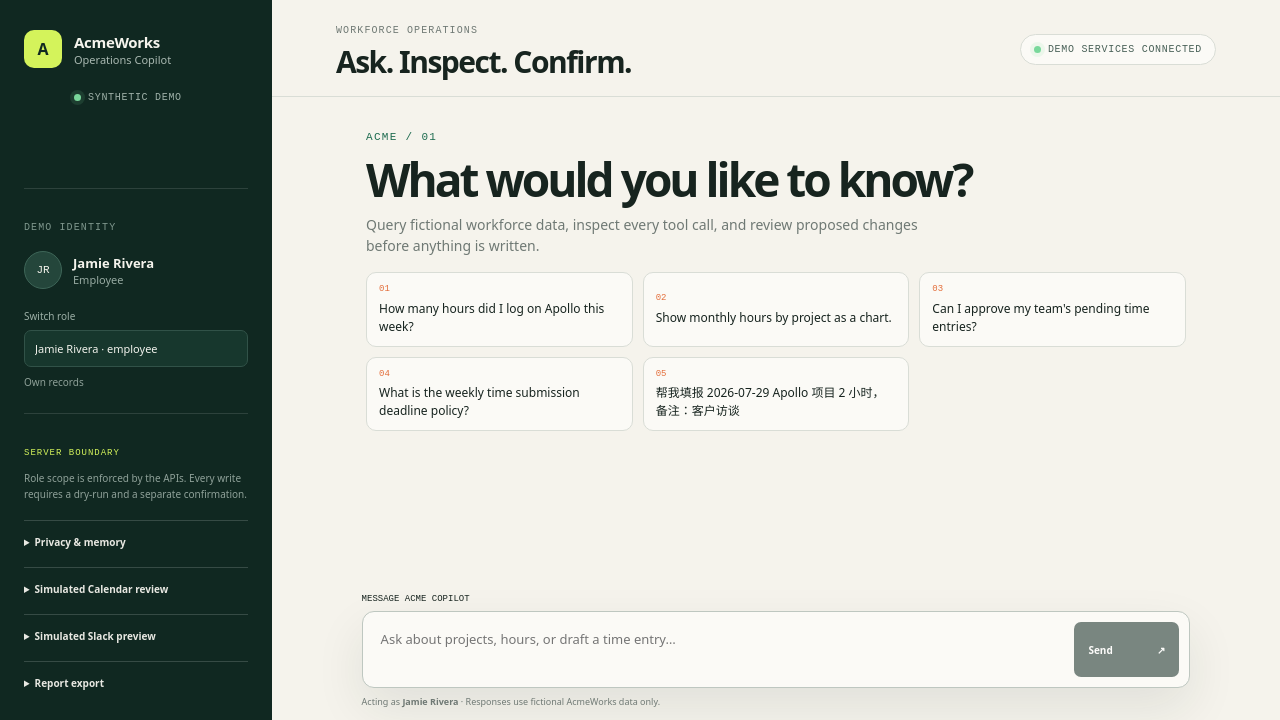
Test: ChatWorkspace › renders time entries as a readable structured table
The image size is (1280, 720).
Type "看下目前所有填的工时" into the text box labelled "Message Acme Copilot" at (718, 650), box [373,622,1062,677]
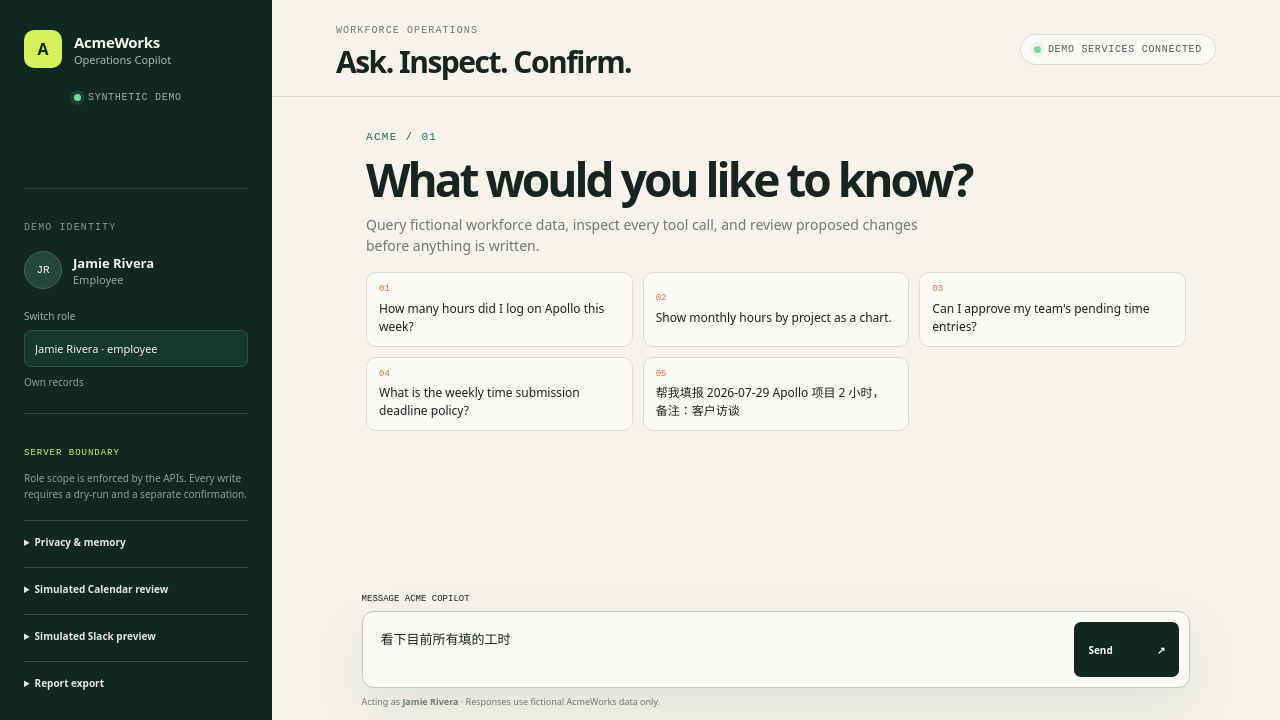
Click the button "Send ↗" at (1127, 650), box [1074,622,1179,677]
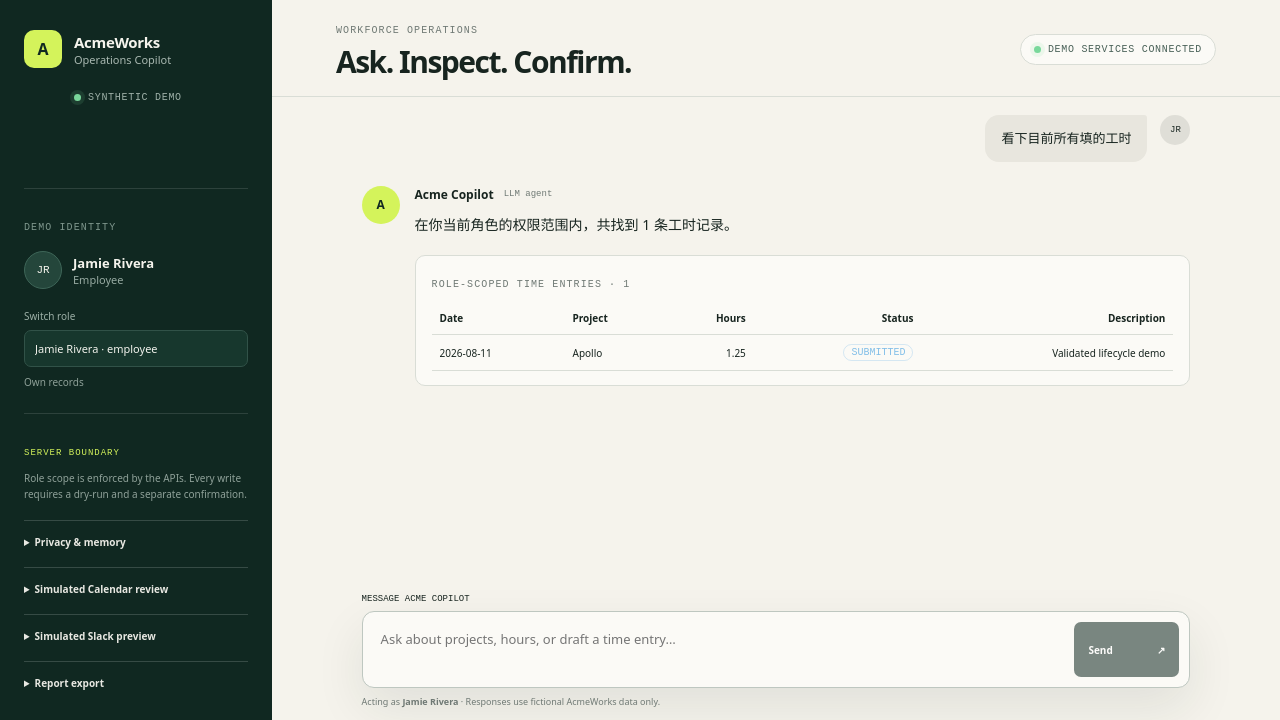
expect the element "TIME ENTRIES" shows "2026-08-11": met, box [440,346,492,360]
expect the element "TIME ENTRIES" shows "Apollo": met, box [572,346,602,360]
expect the element "TIME ENTRIES" shows "Validated lifecycle demo": met, box [1052,346,1165,360]
